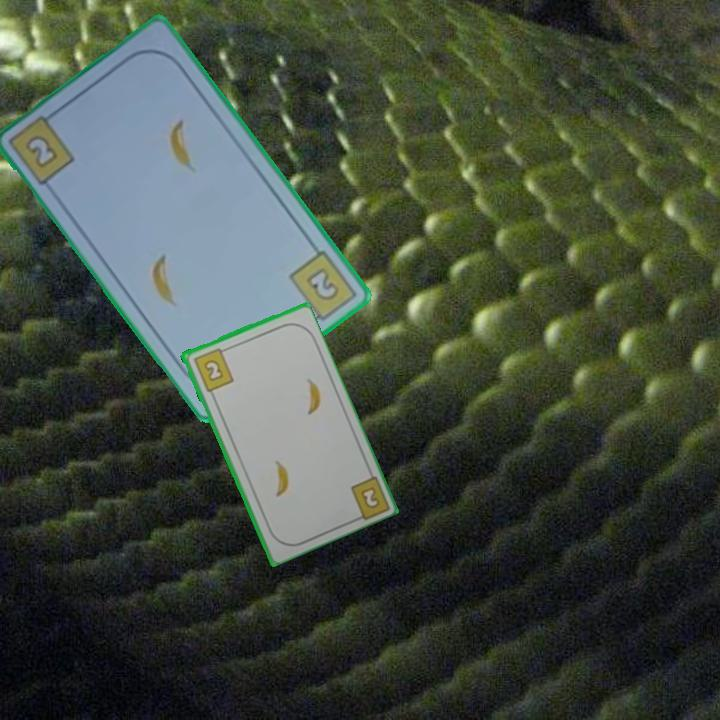2b: (285, 246, 359, 329), (190, 344, 236, 394), (22, 131, 62, 172), (357, 483, 383, 512)
